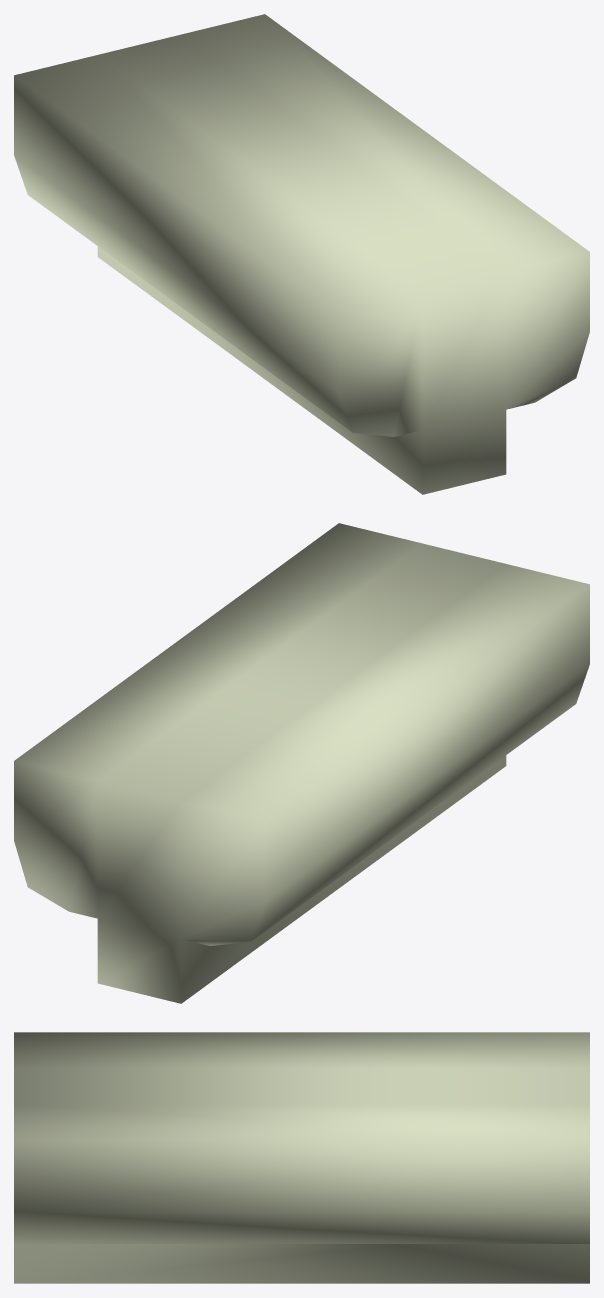
The model's file is Track.fbx.
3 views of the same model, one above another, from view 1: azimuth 30°, elevation 25°; view 2: azimuth 150°, elevation 25°; view 3: azimuth 270°, elevation 25° (orthographic). The views are drawn at different scales.
Parts seen in each view (by area): view 1: Track:Box001; view 2: Track:Box001; view 3: Track:Box001.
Boxes of the visible parts, bbox=[...] form: Track:Box001: bbox=[14, 14, 589, 494]; Track:Box001: bbox=[14, 523, 589, 1003]; Track:Box001: bbox=[14, 1032, 589, 1283].
Size of the model in its own units: 4.46 by 3.43 by 10.
